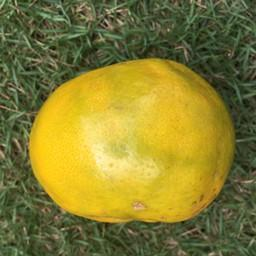Good_orange: (27, 52, 238, 225)
